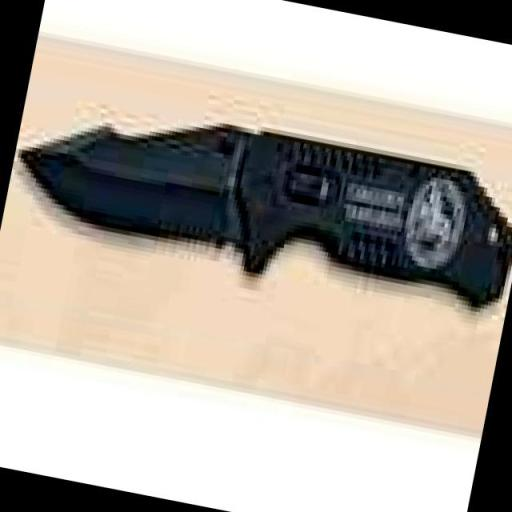knife: (1, 65, 512, 320)
